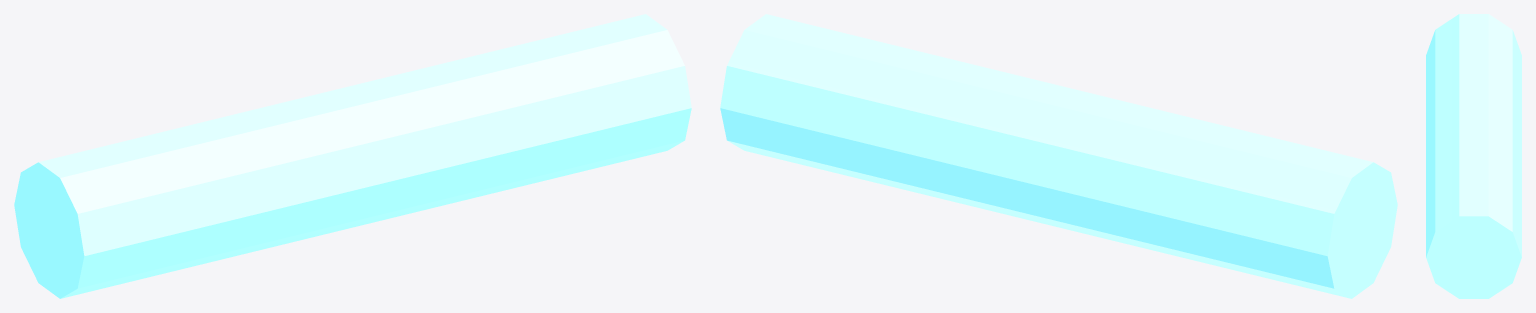
Rendered from dustCurrent.glb.
3 views of the same model, side by side, from view 1: azimuth 30°, elevation 25°; view 2: azimuth 150°, elevation 25°; view 3: azimuth 270°, elevation 25° (orthographic). The views are drawn at different scales.
Visible parts, largest first — view 1: LOD0._color_8fe8ff_emissive_8fe8ff_; view 2: LOD0._color_8fe8ff_emissive_8fe8ff_; view 3: LOD0._color_8fe8ff_emissive_8fe8ff_.
Boxes of the visible parts, bbox=[...] form: LOD0._color_8fe8ff_emissive_8fe8ff_: bbox=[14, 14, 691, 298]; LOD0._color_8fe8ff_emissive_8fe8ff_: bbox=[720, 14, 1397, 298]; LOD0._color_8fe8ff_emissive_8fe8ff_: bbox=[1426, 14, 1521, 298].
Size of what is drawn, in the model's own units: 120 by 22.82 by 24.
